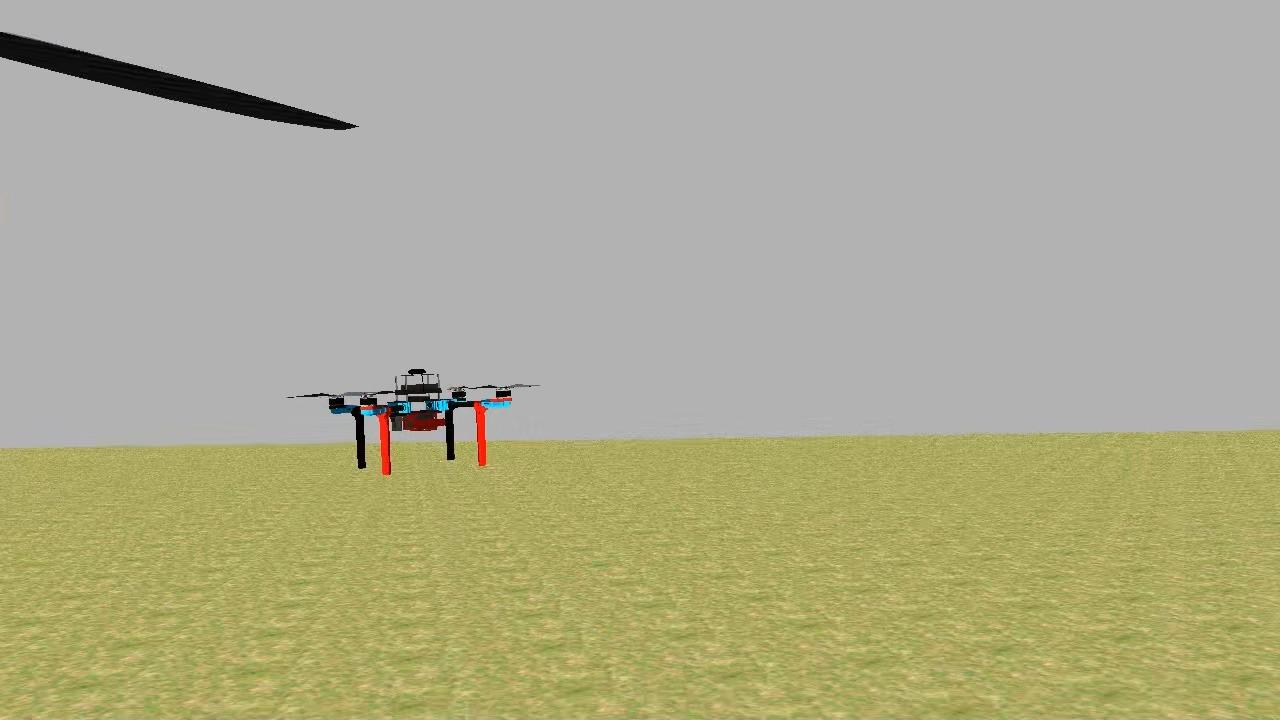UAV: (326, 360, 520, 478)
